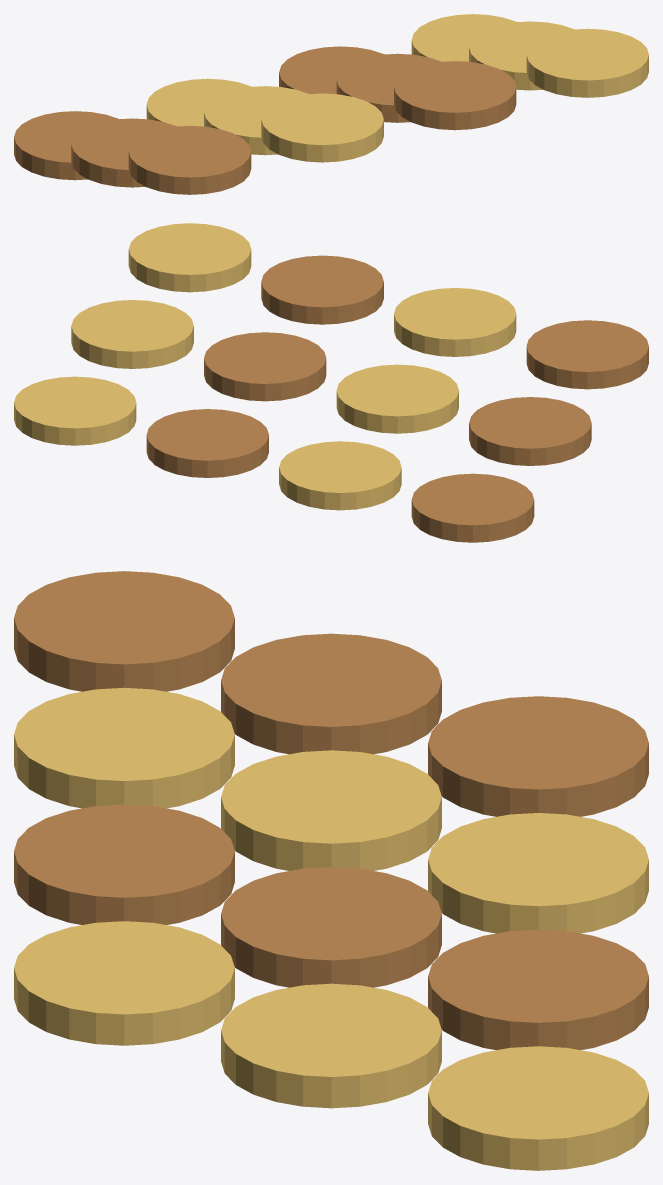
The model's file is moedas.glb.
3 renders of one model, top to bottom at view 1: azimuth 30°, elevation 25°; view 2: azimuth 150°, elevation 25°; view 3: azimuth 270°, elevation 25°, orthographic. The views are drawn at different scales.
Visible parts, largest first — view 1: Peça sem inscrição.008, Peça sem inscrição.009, Peça sem inscrição.010, Peça sem inscrição.011, Peça sem inscrição.004, Peça sem inscrição, Peça sem inscrição.005, Peça sem inscrição.006, Peça sem inscrição.007, Peça sem inscrição.003, Peça sem inscrição.001, Peça sem inscrição.002; view 2: Peça sem inscrição, Peça sem inscrição.011, Peça sem inscrição.004, Peça sem inscrição.007, Peça sem inscrição.001, Peça sem inscrição.002, Peça sem inscrição.009, Peça sem inscrição.010, Peça sem inscrição.003, Peça sem inscrição.005, Peça sem inscrição.006, Peça sem inscrição.008; view 3: Peça sem inscrição.007, Peça sem inscrição.003, Peça sem inscrição.011, Peça sem inscrição.010, Peça sem inscrição.009, Peça sem inscrição.008, Peça sem inscrição.005, Peça sem inscrição.002, Peça sem inscrição.004, Peça sem inscrição.001, Peça sem inscrição.006, Peça sem inscrição.
Part boxes in pixels (left/top/right/bottom): Peça sem inscrição.008: left=128, top=126, right=251, bottom=194; Peça sem inscrição.009: left=261, top=93, right=383, bottom=162; Peça sem inscrição.010: left=394, top=61, right=516, bottom=130; Peça sem inscrição.011: left=526, top=28, right=648, bottom=97; Peça sem inscrição.004: left=71, top=118, right=176, bottom=187; Peça sem inscrição: left=14, top=111, right=118, bottom=180; Peça sem inscrição.005: left=204, top=86, right=308, bottom=155; Peça sem inscrição.006: left=336, top=53, right=441, bottom=122; Peça sem inscrição.007: left=469, top=21, right=574, bottom=90; Peça sem inscrição.003: left=411, top=14, right=516, bottom=61; Peça sem inscrição.001: left=146, top=78, right=251, bottom=126; Peça sem inscrição.002: left=279, top=46, right=384, bottom=94; Peça sem inscrição: left=411, top=473, right=534, bottom=542; Peça sem inscrição.011: left=128, top=223, right=251, bottom=292; Peça sem inscrição.004: left=469, top=397, right=591, bottom=465; Peça sem inscrição.007: left=71, top=300, right=193, bottom=368; Peça sem inscrição.001: left=279, top=441, right=401, bottom=510; Peça sem inscrição.002: left=146, top=409, right=268, bottom=477; Peça sem inscrição.009: left=394, top=288, right=516, bottom=356; Peça sem inscrição.010: left=261, top=255, right=383, bottom=324; Peça sem inscrição.003: left=14, top=376, right=136, bottom=445; Peça sem inscrição.005: left=336, top=364, right=458, bottom=433; Peça sem inscrição.006: left=204, top=332, right=326, bottom=401; Peça sem inscrição.008: left=526, top=320, right=648, bottom=389; Peça sem inscrição.007: left=221, top=983, right=441, bottom=1108; Peça sem inscrição.003: left=428, top=1046, right=648, bottom=1170; Peça sem inscrição.011: left=14, top=921, right=234, bottom=1045; Peça sem inscrição.010: left=14, top=804, right=234, bottom=924; Peça sem inscrição.009: left=14, top=687, right=234, bottom=808; Peça sem inscrição.008: left=14, top=571, right=234, bottom=691; Peça sem inscrição.005: left=221, top=750, right=441, bottom=870; Peça sem inscrição.002: left=428, top=929, right=648, bottom=1050; Peça sem inscrição.004: left=221, top=633, right=441, bottom=754; Peça sem inscrição.001: left=428, top=813, right=648, bottom=933; Peça sem inscrição.006: left=221, top=867, right=441, bottom=987; Peça sem inscrição: left=428, top=696, right=648, bottom=816.
Bounding box in the file's own units: 1.52 × 0.25 × 0.92.
